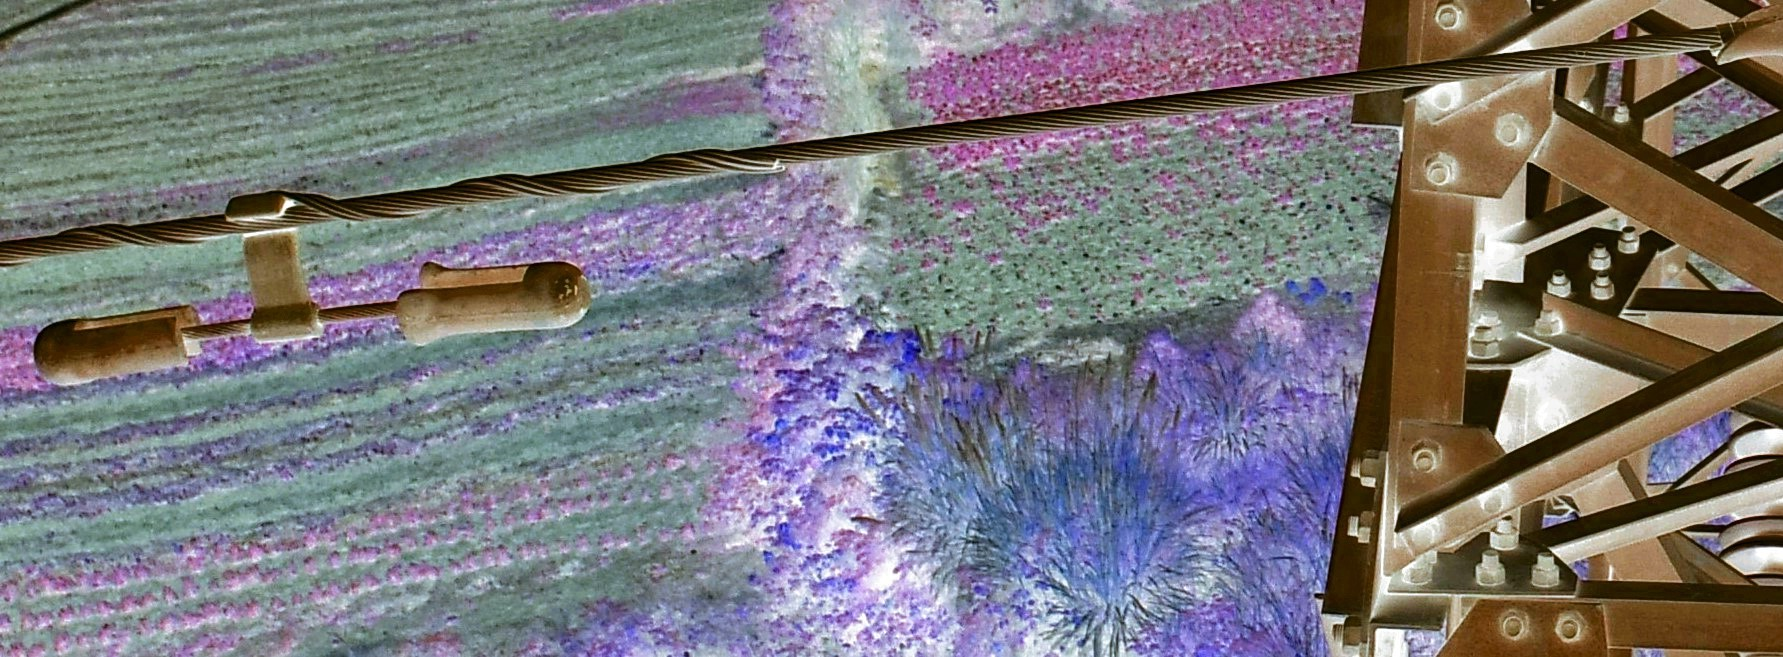Shockproof hammer: (26, 158, 602, 397)
